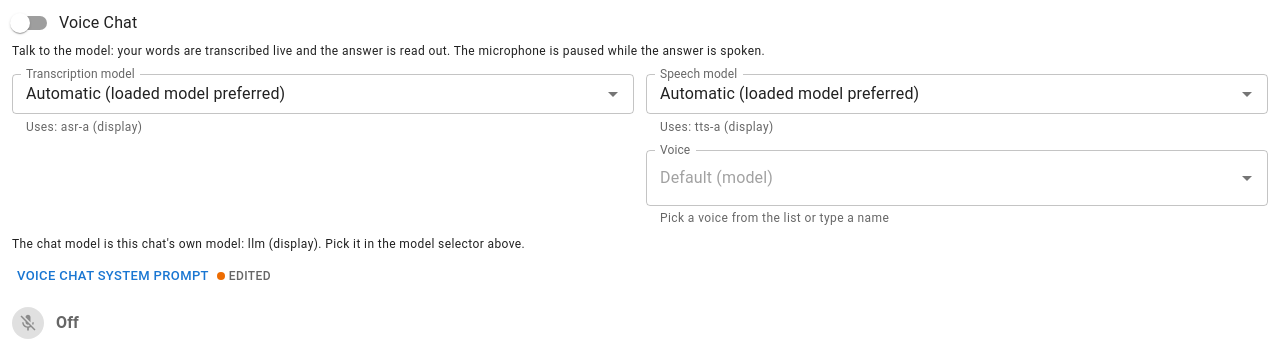
Test: VoiceChatControl voice field › lists the voices of the speech model, under its picker
Step 1. Press the mouse on the dropdown labelled "Voice" → x=942, y=178, box [655,159,1229,197]
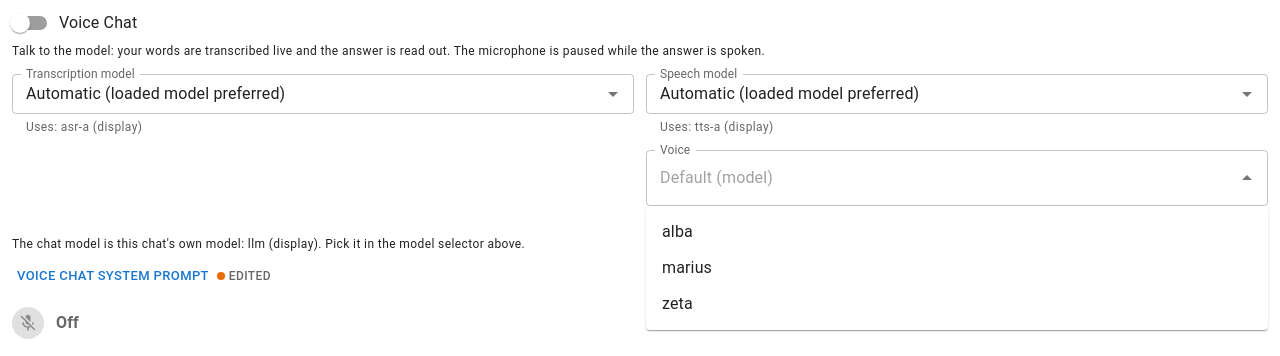
Check: the options read "alba", "marius", "zeta", in this order, box [662,222,693,241]; [662,258,712,277]; [662,294,693,313]
